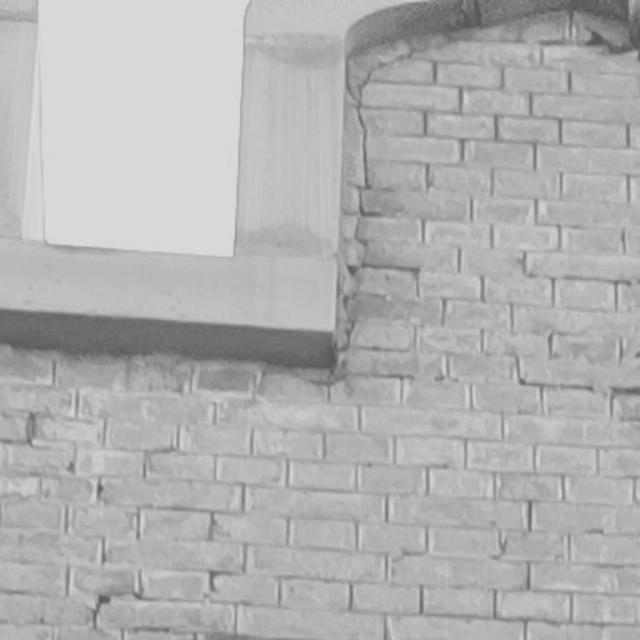crack: (308, 35, 469, 386), (575, 6, 640, 68)
